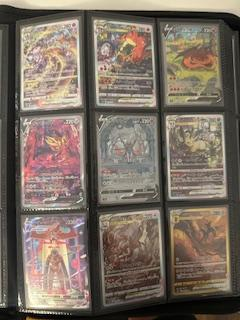card: (19, 214, 93, 318), (164, 203, 238, 305), (14, 15, 87, 114), (97, 209, 166, 312), (18, 112, 86, 213), (98, 112, 161, 207), (94, 16, 157, 111), (162, 19, 225, 112), (163, 113, 228, 201)
